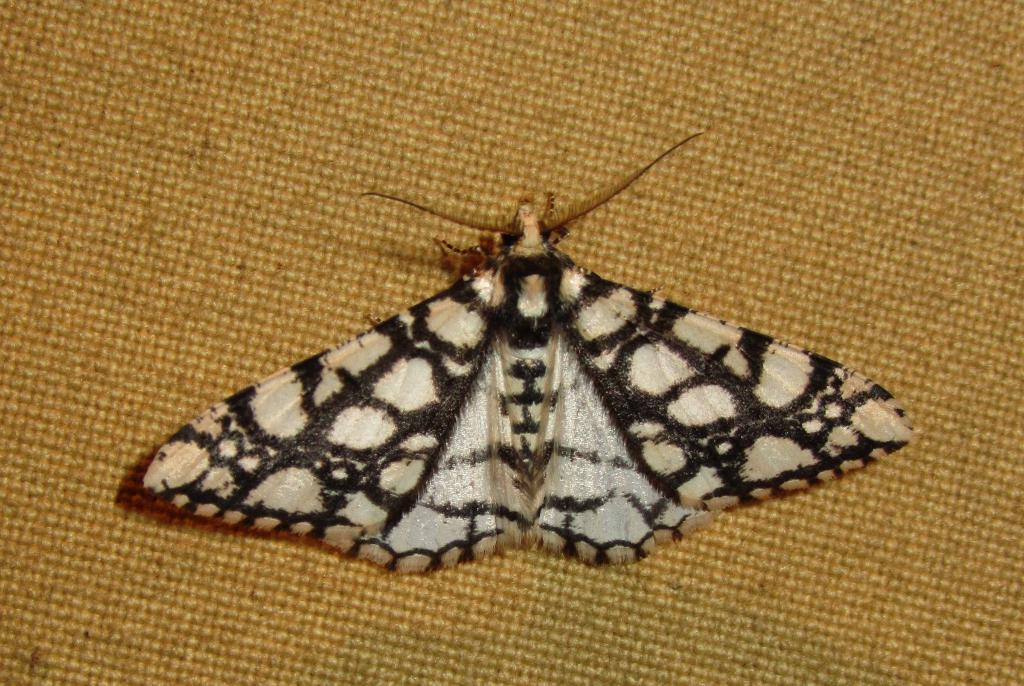Butterfly: (109, 179, 915, 580)
